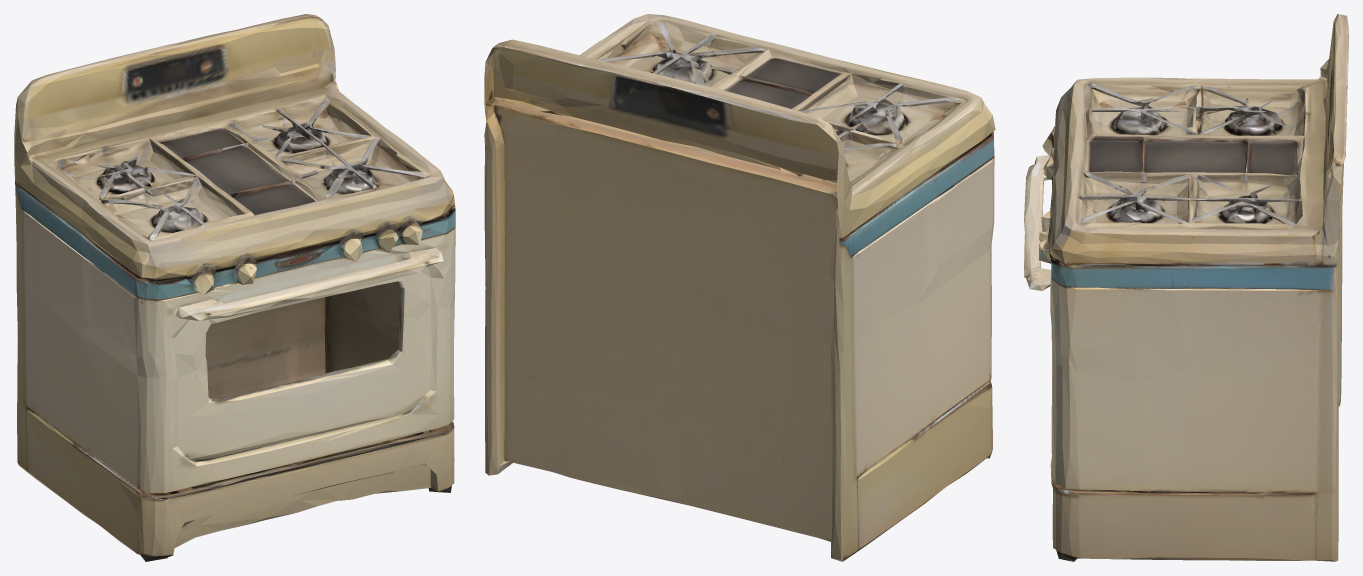
File: 1950s_stove_without_o_0401231533_texture.fbx
3 views of the same model, side by side, from view 1: azimuth 30°, elevation 25°; view 2: azimuth 150°, elevation 25°; view 3: azimuth 270°, elevation 25° (orthographic). The views are drawn at different scales.
Visible parts, largest first — view 1: temp; view 2: temp; view 3: temp.
Part boxes in pixels (x1,y1,x2,y2): temp: (14, 14, 455, 561); temp: (484, 14, 995, 561); temp: (1024, 14, 1348, 561).
Bounding box in the file's own units: 174 × 200 × 146.
1 material, 1 textured.
